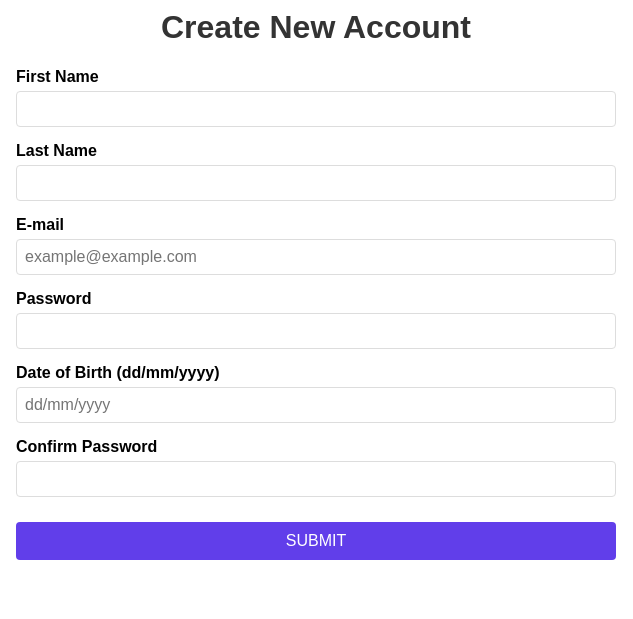
Form validation tests › shows error for invalid email format
In the field labelled "First Name": (316, 109) [16, 91, 616, 127], type "John"
In the field labelled "Last Name": (316, 183) [16, 165, 616, 201], type "Doe"
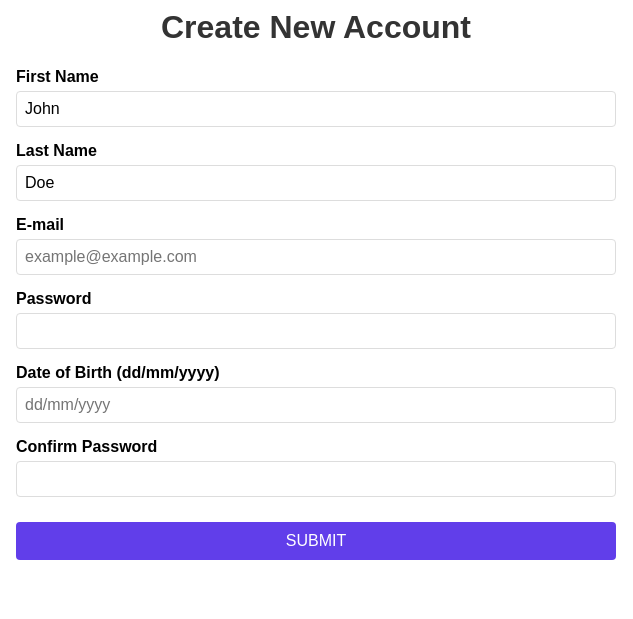
In the field labelled "E-mail": (316, 257) [16, 239, 616, 275], type "john@site"
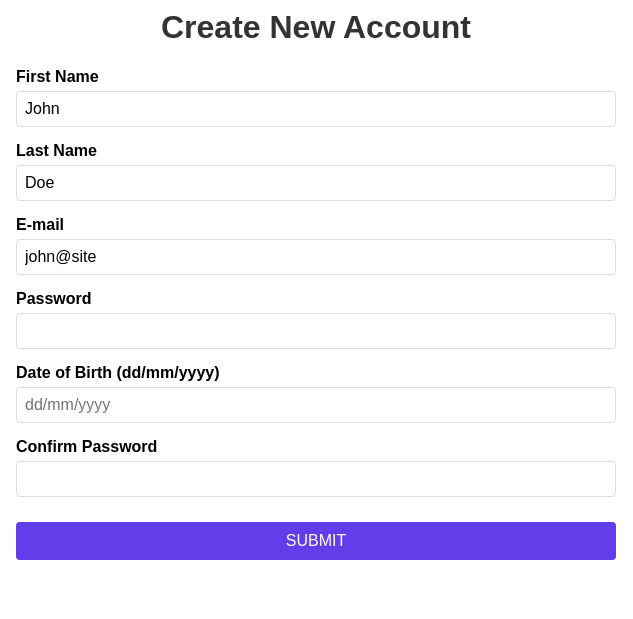
In the password field labelled "Password": (316, 331) [16, 313, 616, 349], type "password123"
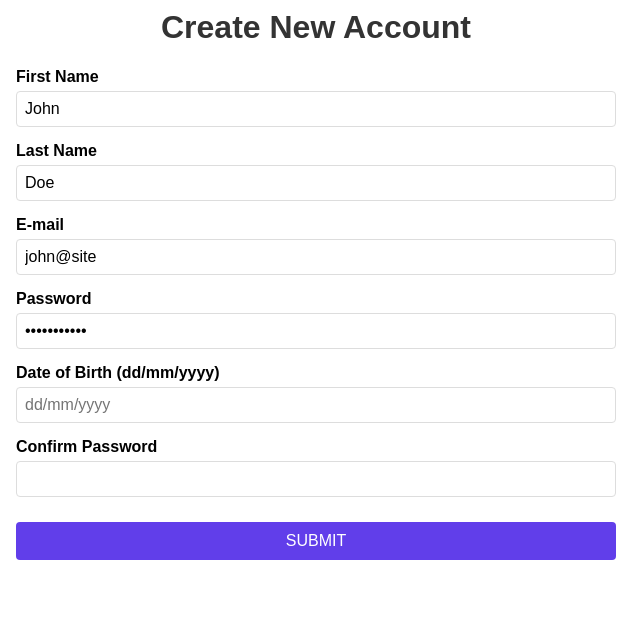
In the password field labelled "Confirm Password": (316, 479) [16, 461, 616, 497], type "password123"
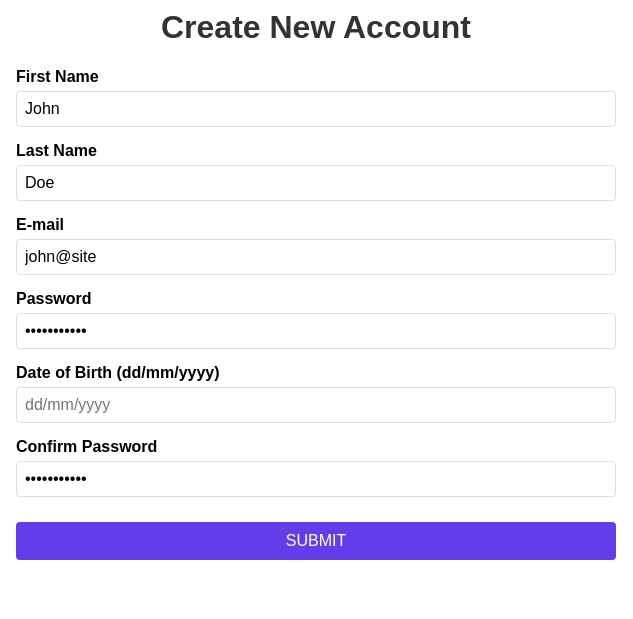
In the field labelled "Date of Birth (dd/mm/yyyy)": (316, 405) [16, 387, 616, 423], type "01/01/2000"
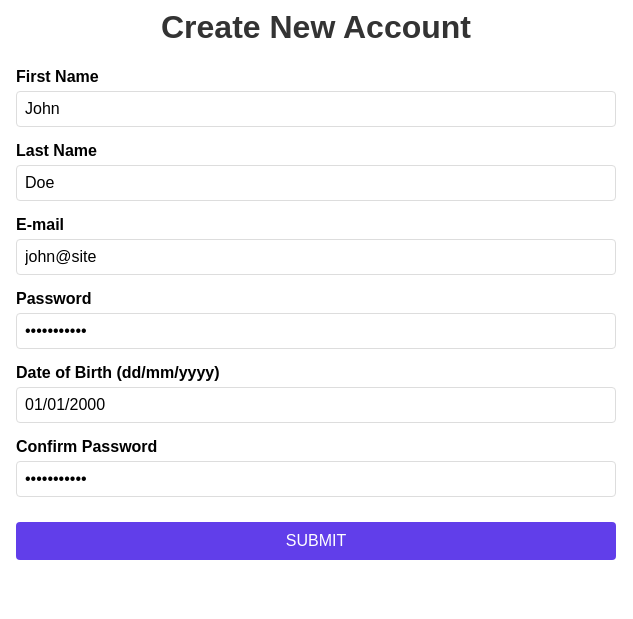
Click the button "SUBMIT": click(316, 541) [16, 522, 616, 560]
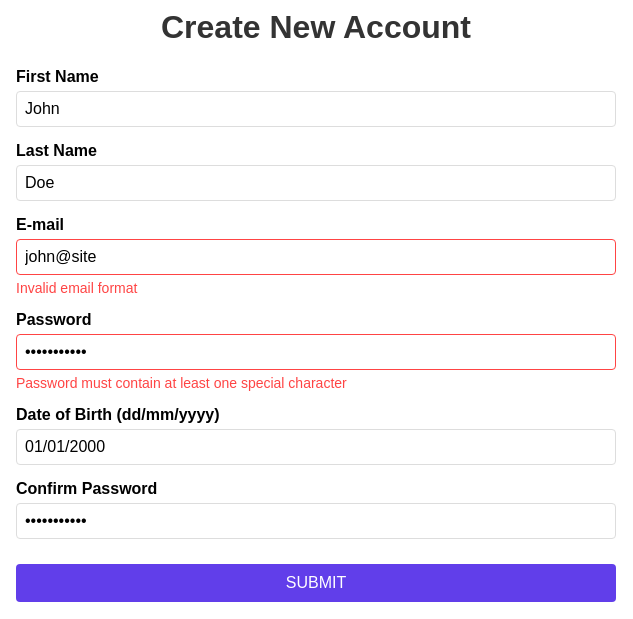
Expected: the text "Invalid email format" is shown, [16, 280, 137, 296]
